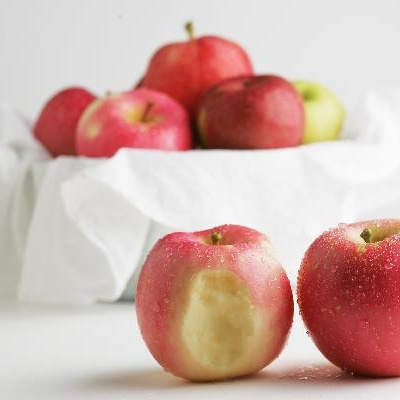apple: (133, 225, 296, 381), (294, 214, 400, 371), (76, 89, 192, 175), (198, 73, 306, 160), (145, 38, 254, 123), (273, 78, 352, 150), (30, 84, 94, 169)
